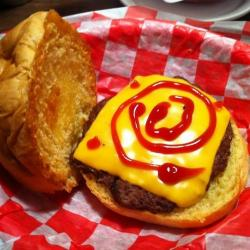burger: (6, 19, 250, 229)
ketchup: (116, 80, 226, 180)
